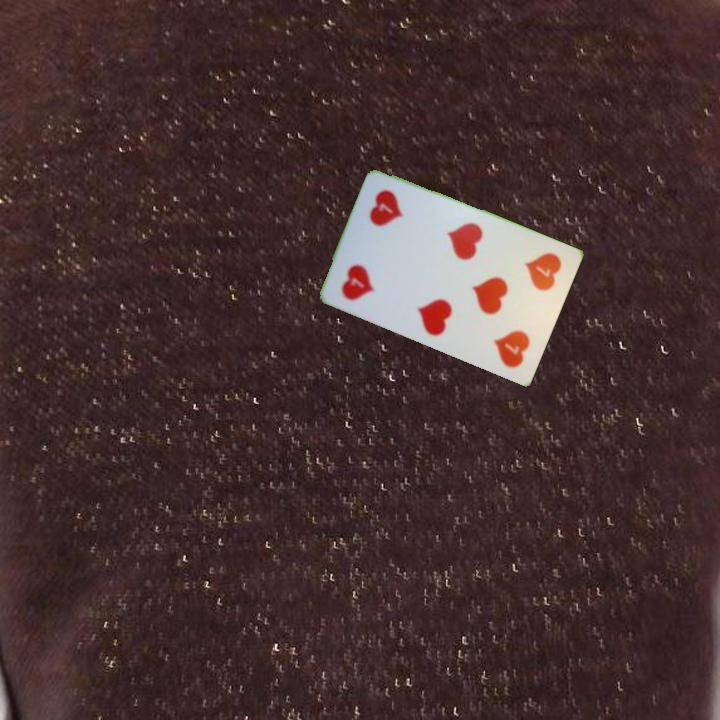h_7.png: (493, 235, 571, 318), (328, 233, 406, 315)
